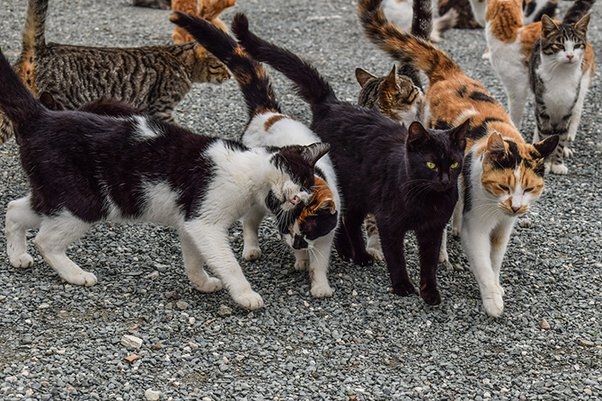Cat: (460, 87, 560, 328), (391, 119, 473, 300)
